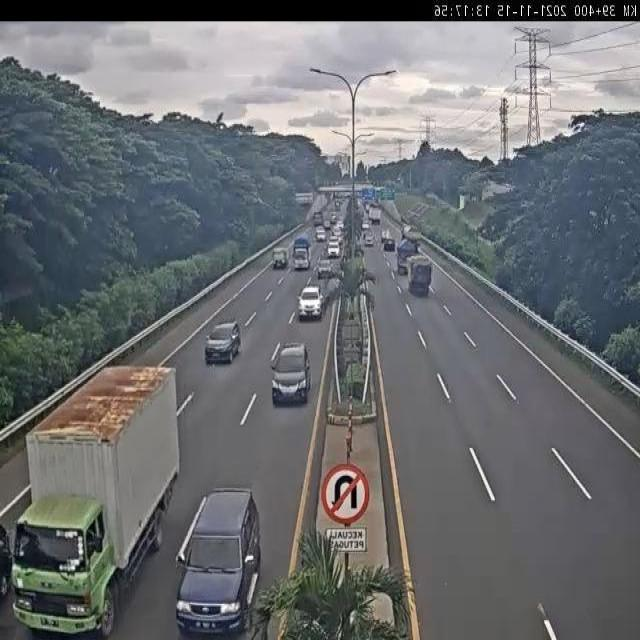Car: (174, 488, 261, 635), (265, 339, 310, 418), (204, 320, 242, 364), (297, 283, 325, 320), (293, 248, 310, 270), (317, 259, 334, 280), (272, 247, 288, 269), (327, 238, 341, 258), (356, 198, 367, 217), (315, 227, 326, 242), (313, 211, 323, 226), (337, 191, 350, 202), (364, 232, 374, 246), (336, 268, 345, 283), (336, 196, 346, 209), (360, 282, 368, 298), (335, 220, 344, 234), (350, 193, 359, 207), (355, 245, 364, 258), (323, 218, 331, 232), (330, 212, 338, 225), (362, 220, 370, 232), (332, 192, 339, 201)
Truck: (6, 346, 188, 635), (408, 255, 432, 296), (397, 236, 419, 276), (369, 206, 382, 224)
